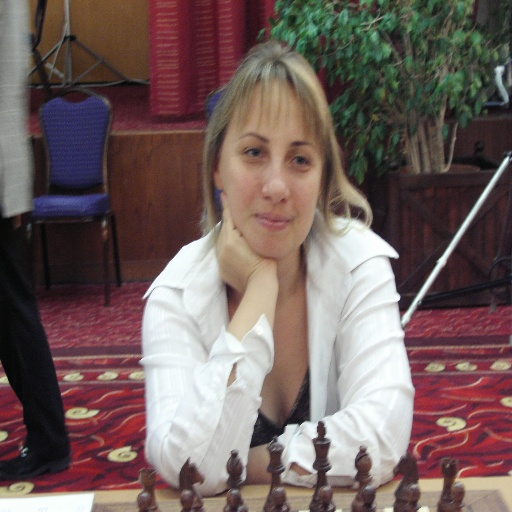hand: (213, 191, 280, 286)
